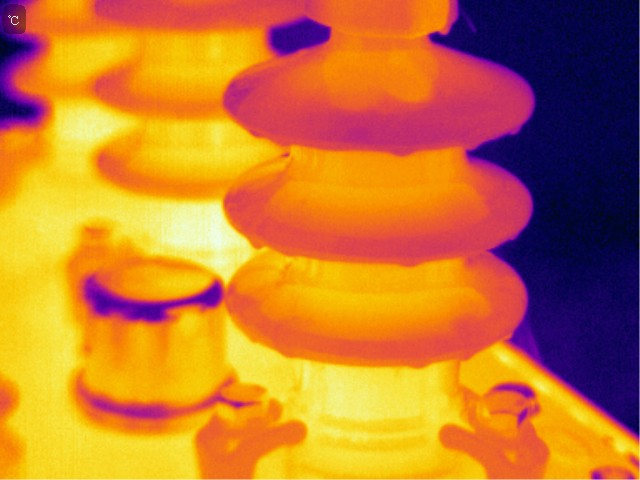Oil: (407, 1, 449, 37), (274, 337, 302, 367), (458, 129, 482, 157), (269, 127, 288, 157), (246, 118, 265, 147), (503, 321, 522, 348), (395, 255, 426, 271), (247, 230, 268, 253), (388, 145, 420, 158), (511, 118, 528, 141), (243, 327, 259, 350), (405, 356, 433, 369)
